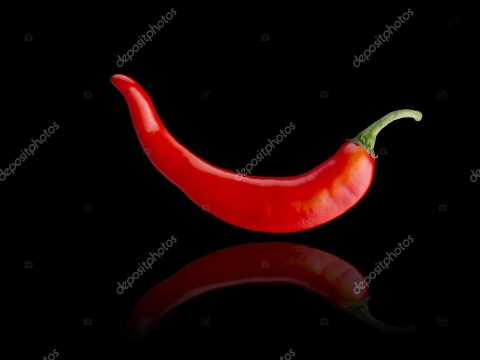Chilli: (94, 56, 438, 236)
